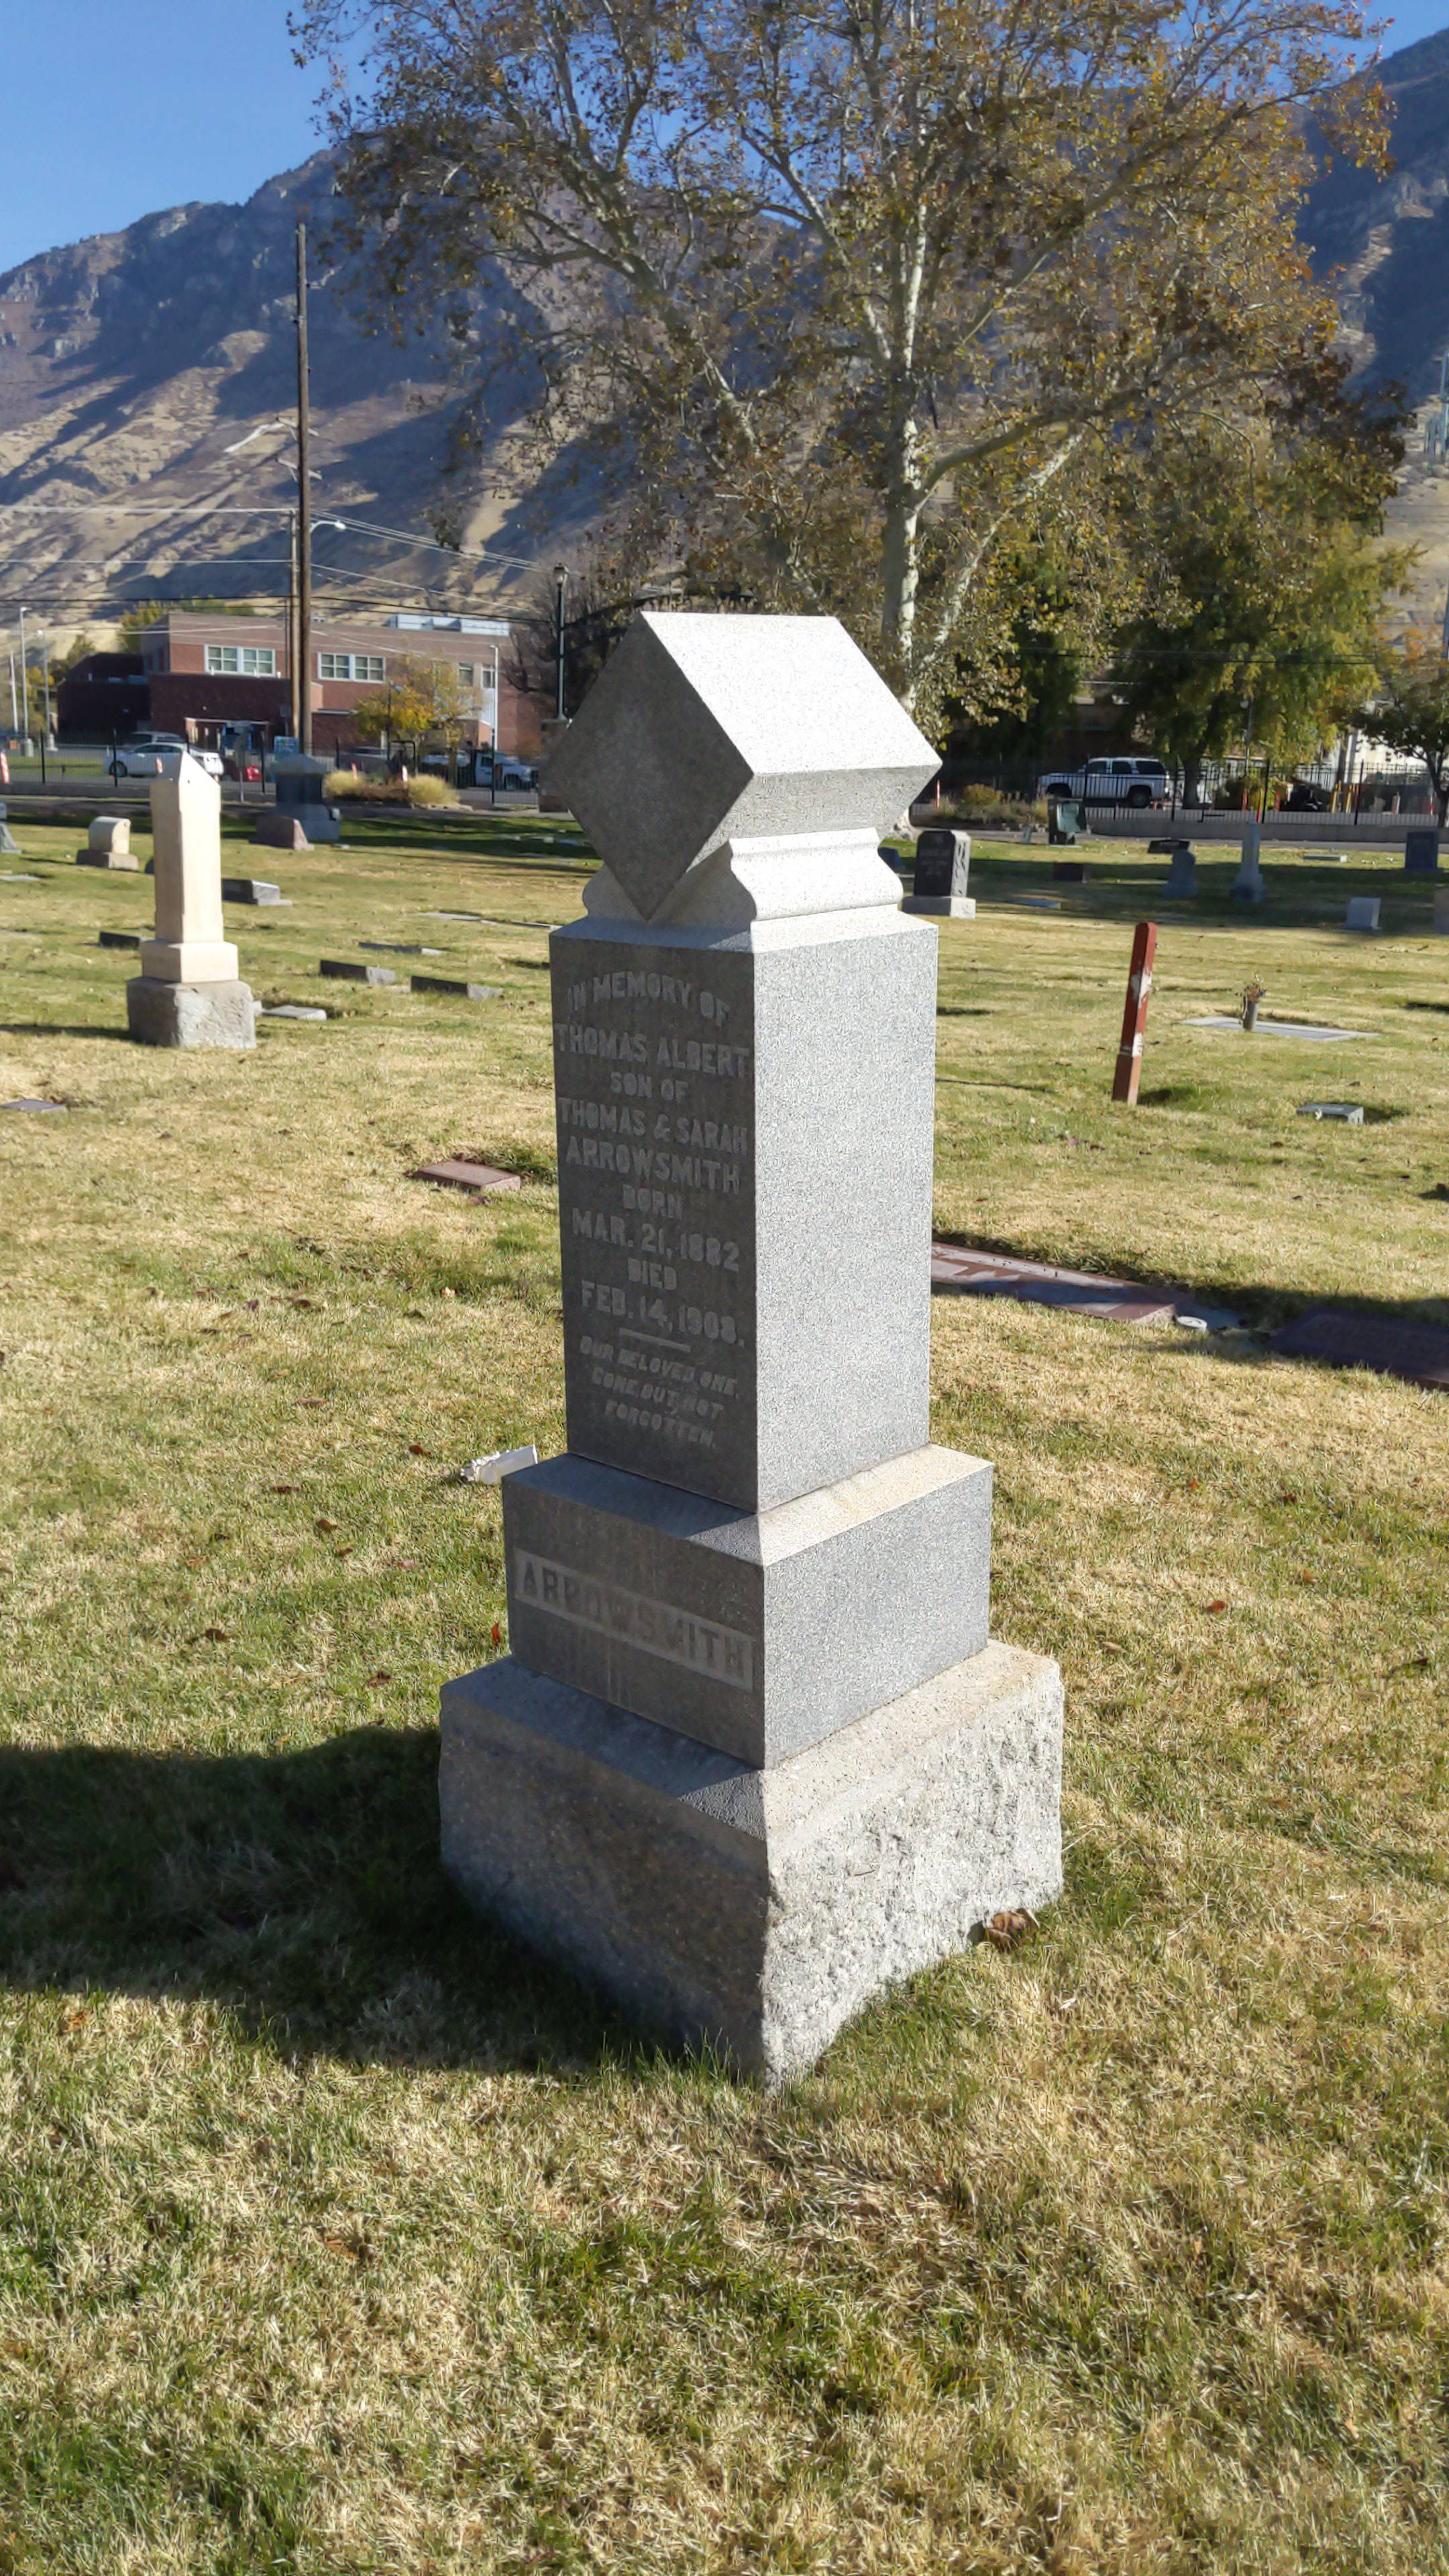obelisk: (508, 621, 987, 1771)
